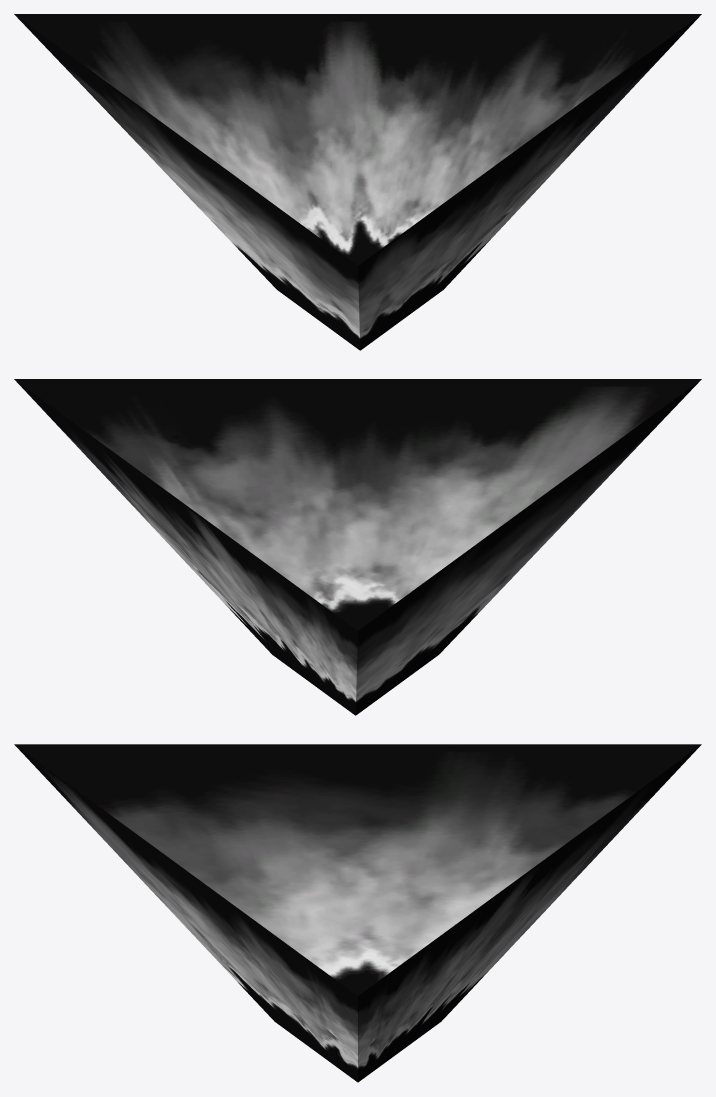
File: mesh_sd_sanjiao01.FBX
The picture shows the model from 3 angles, top to bottom: view 1: azimuth 30°, elevation 25°; view 2: azimuth 150°, elevation 25°; view 3: azimuth 270°, elevation 25°; orthographic projection.
Visible parts, largest first — view 1: NGon001; view 2: NGon001; view 3: NGon001.
Boxes of the visible parts, x1,y1,x2,y2 form: NGon001: (14,14,701,350); NGon001: (14,379,701,715); NGon001: (14,744,701,1082).
Size of the model in its own units: 271 by 107 by 313.
